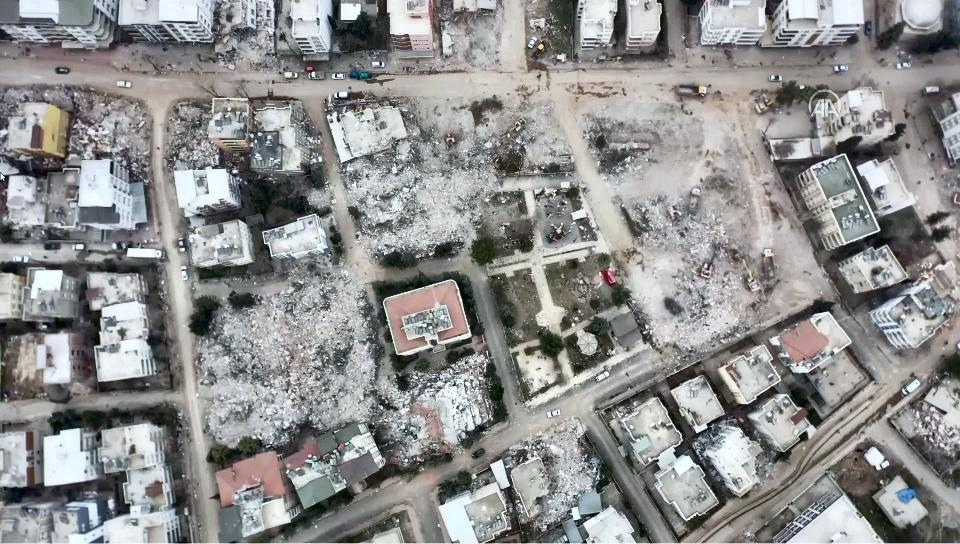kapali: (340, 252, 435, 483), (630, 285, 786, 386)
